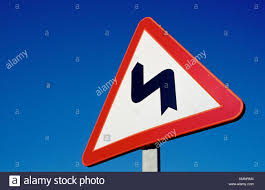Double_bend_left: (79, 13, 248, 169)
